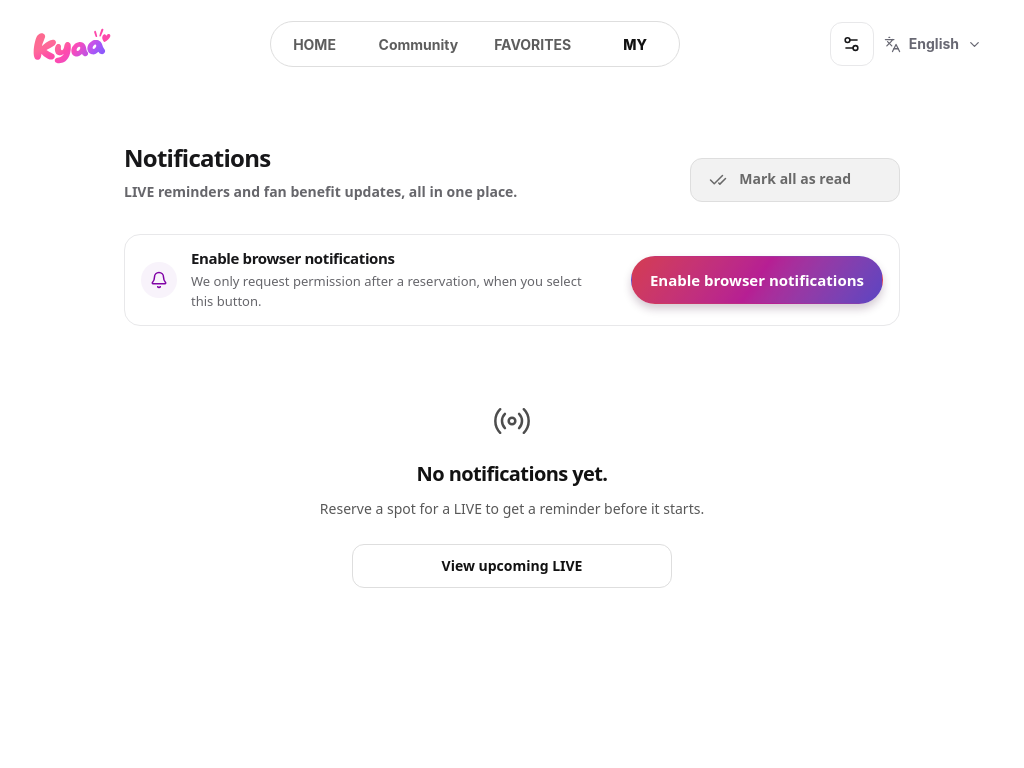
Scenario: FAN-019 Notification Center › announces the English unsupported push result
This screenshot has width=1024, height=768.
Expected: the heading "No notifications yet." is shown, x1=417 y1=461 x2=607 y2=486
Click the button "Enable browser notifications" at (757, 280), box x1=631 y1=256 x2=883 y2=304
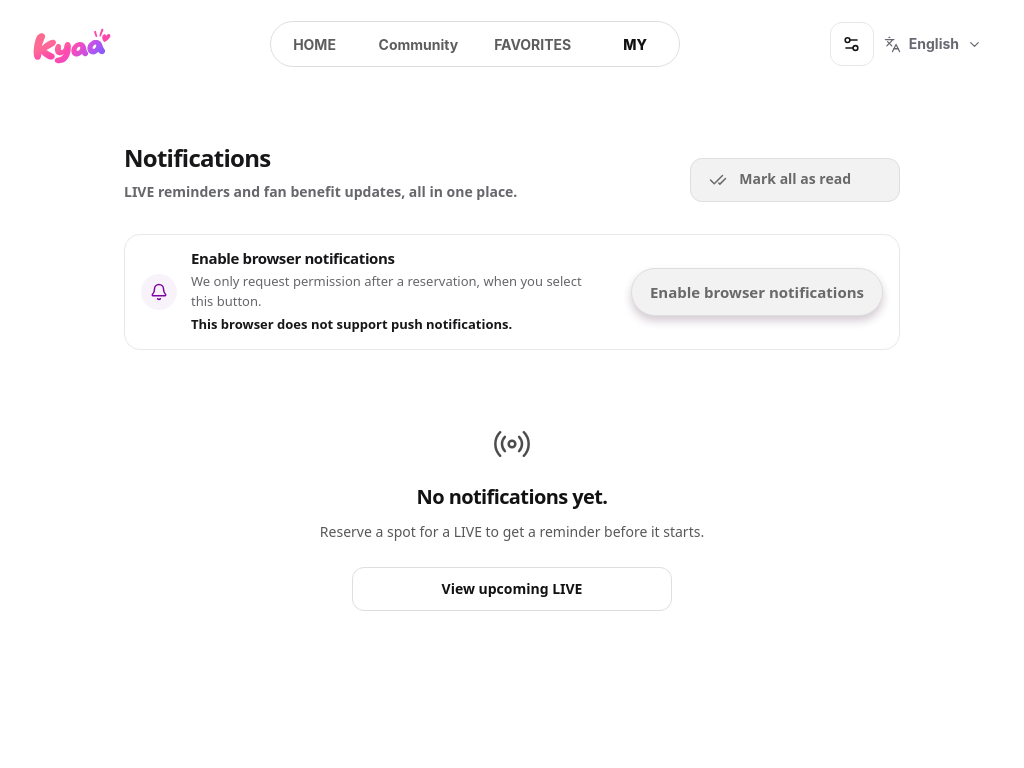
Expected: the text "This browser does not support push notifications." is shown, x1=191 y1=315 x2=512 y2=333
Expected: the button "Enable browser notifications" is disabled, x1=631 y1=268 x2=883 y2=316
